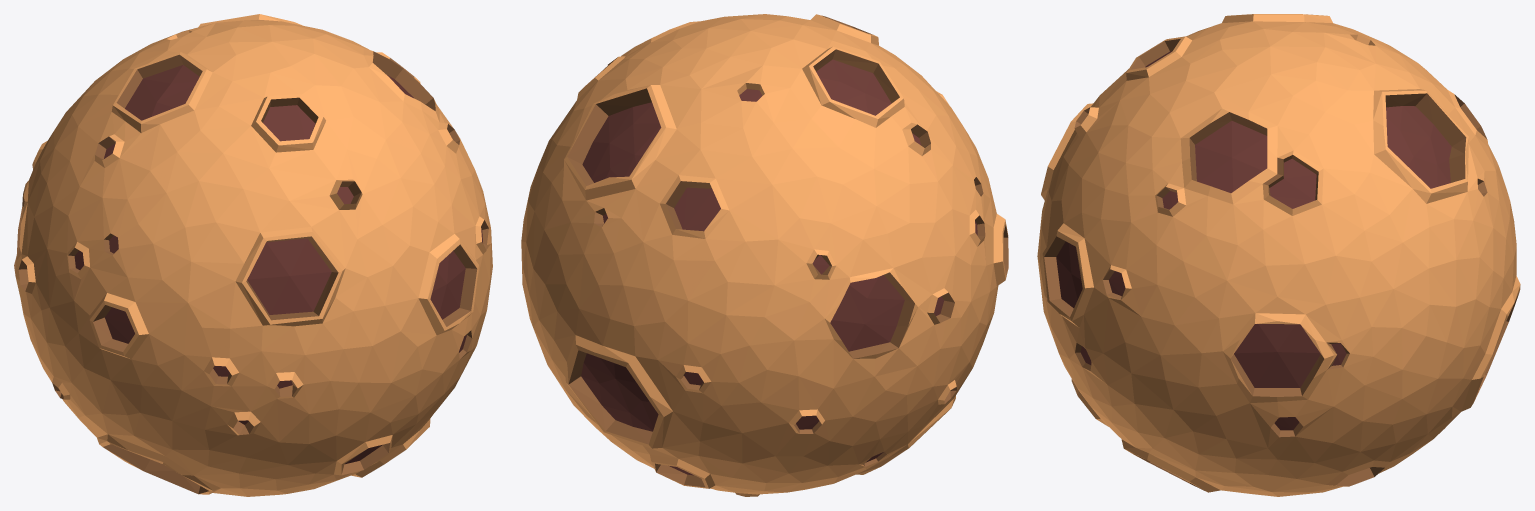
Rendered from Mars.fbx.
3 renders of one model, left to right at view 1: azimuth 30°, elevation 25°; view 2: azimuth 150°, elevation 25°; view 3: azimuth 270°, elevation 25°, orthographic.
Visible parts, largest first — view 1: Icosphere; view 2: Icosphere; view 3: Icosphere.
Part boxes in pixels (x1,y1,x2,y2): Icosphere: (14, 14, 492, 496); Icosphere: (521, 14, 1008, 496); Icosphere: (1037, 14, 1520, 496).
Size of the model in its own units: 20.2 by 20.01 by 20.18.
